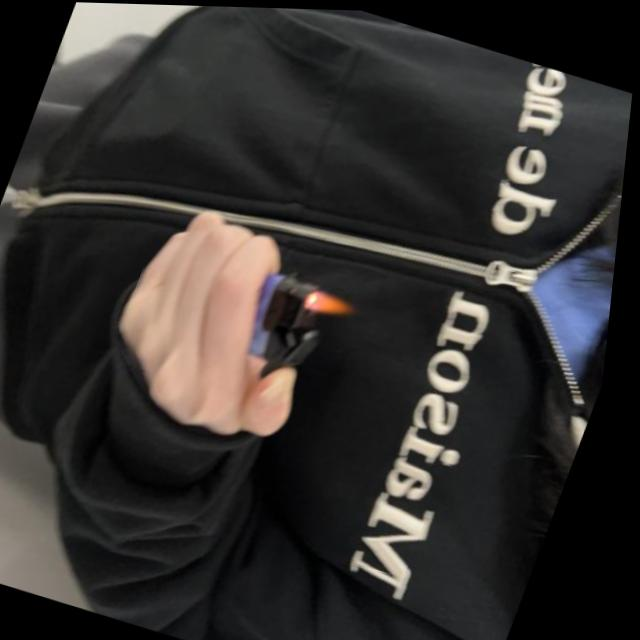Fire: (305, 284, 368, 321)
